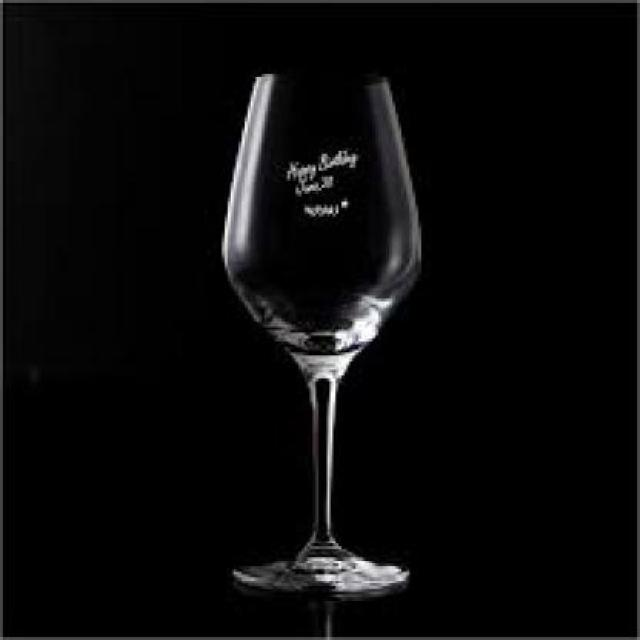kaca: (215, 71, 418, 592)
